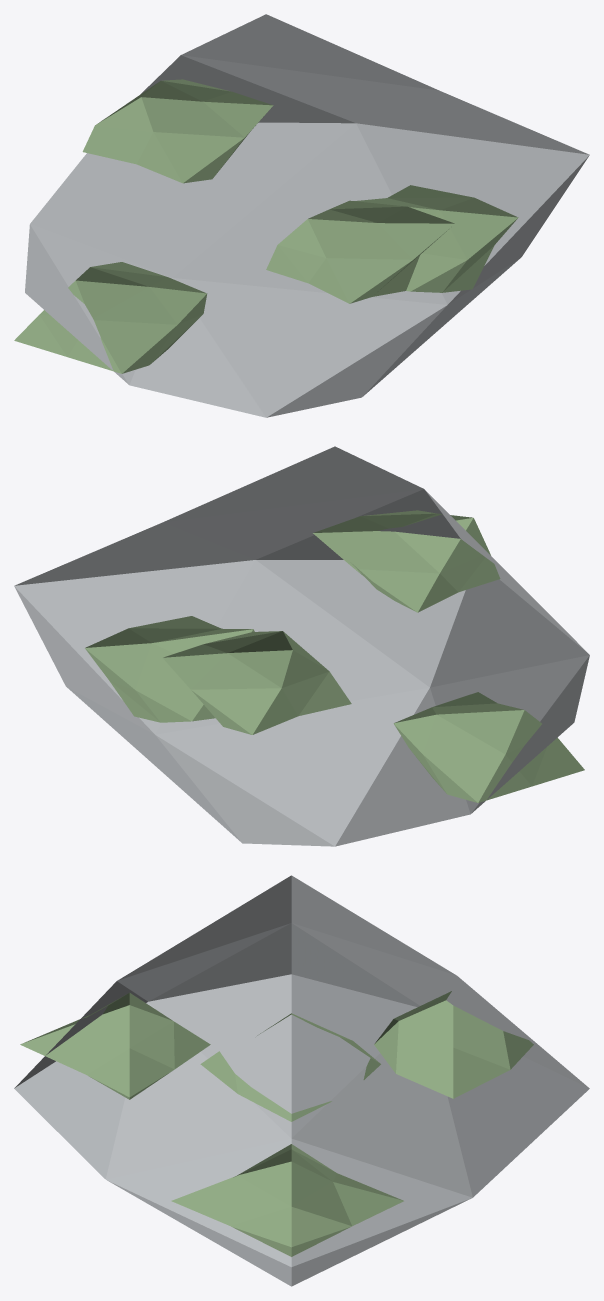
Rendered from moss_rock_v11.glb.
3 views of the same model, one above another, from view 1: azimuth 30°, elevation 25°; view 2: azimuth 150°, elevation 25°; view 3: azimuth 270°, elevation 25° (orthographic). The views are drawn at different scales.
Visible parts, largest first — view 1: lod0; view 2: lod0; view 3: lod0.
Part boxes in pixels (x1=…): lod0: x1=14, y1=14, x2=589, y2=417; lod0: x1=14, y1=446, x2=589, y2=846; lod0: x1=14, y1=875, x2=589, y2=1286.
Size of what is drawn, in the model's own units: 0.8979 by 0.6013 by 0.8008.
